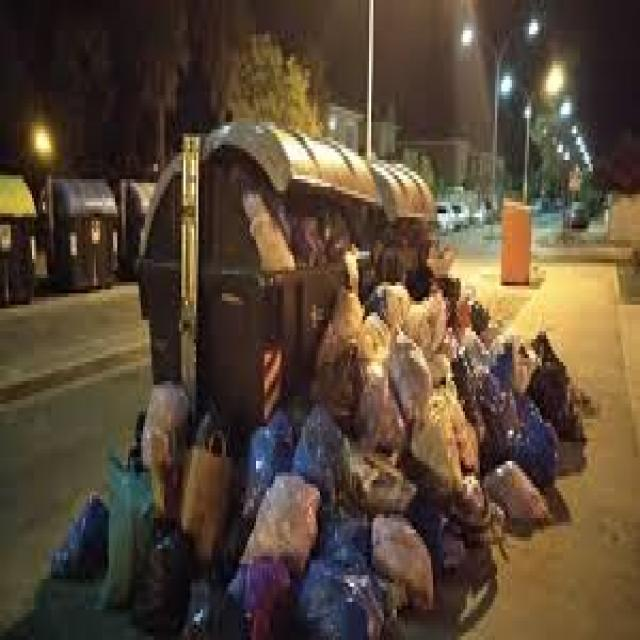garbage: (60, 250, 587, 638)
